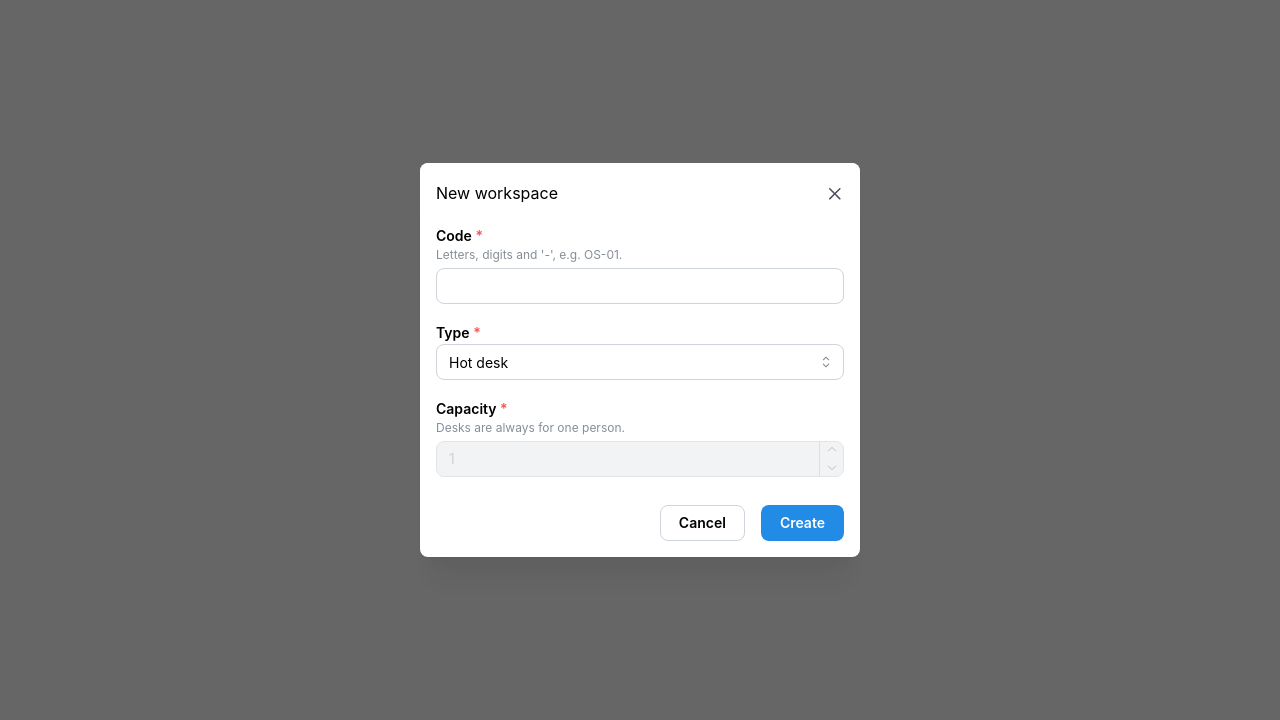
Test: WorkspaceFormModal › shows a taken code under the code field
Type "OS-01" into the field labelled "Code *".
click(640, 286); type("OS-01")  # box [436,268,844,304]
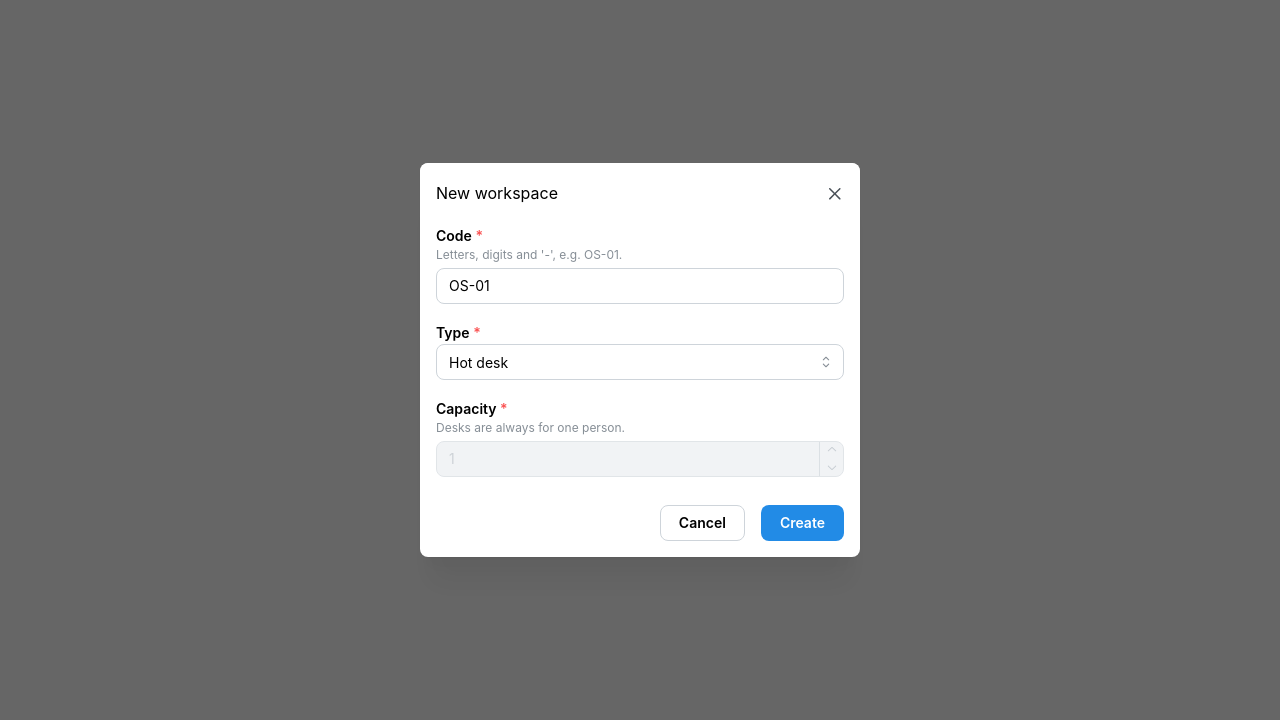
Click the button "Create".
click(802, 523)  # box [761,505,844,541]
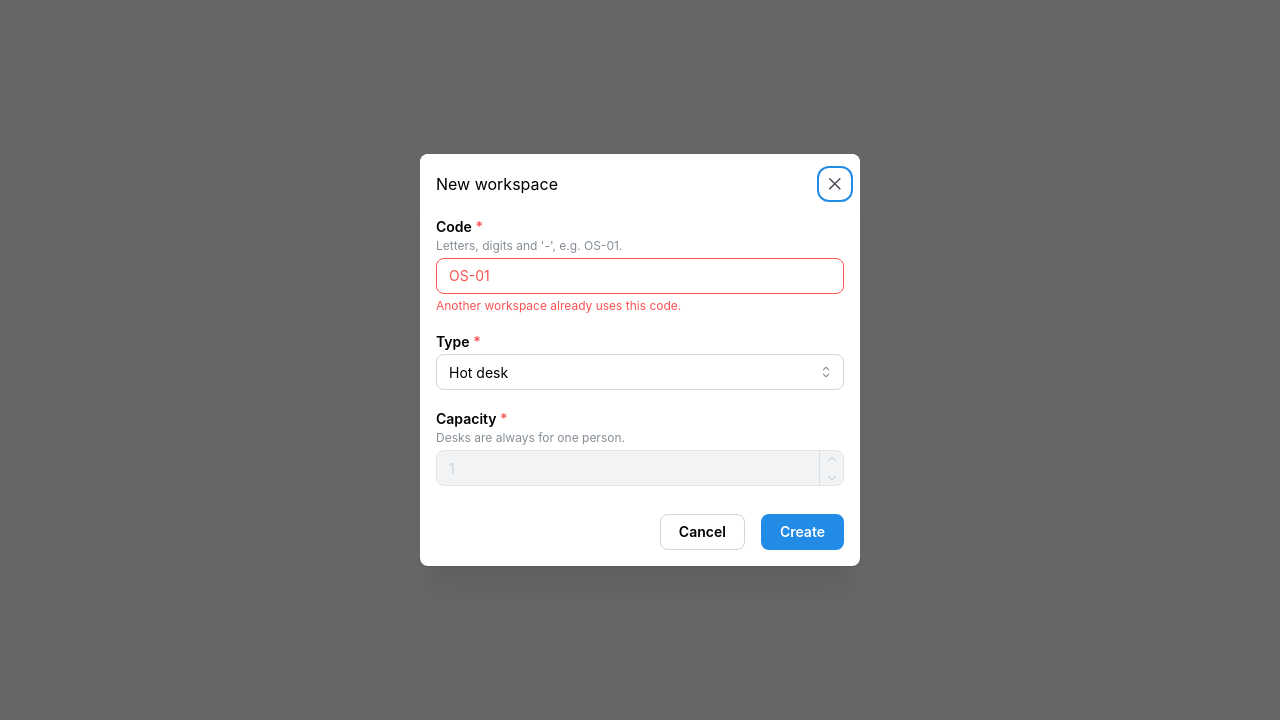
Now the text "Another workspace already uses this code." is shown, box [436,298,681,313]
